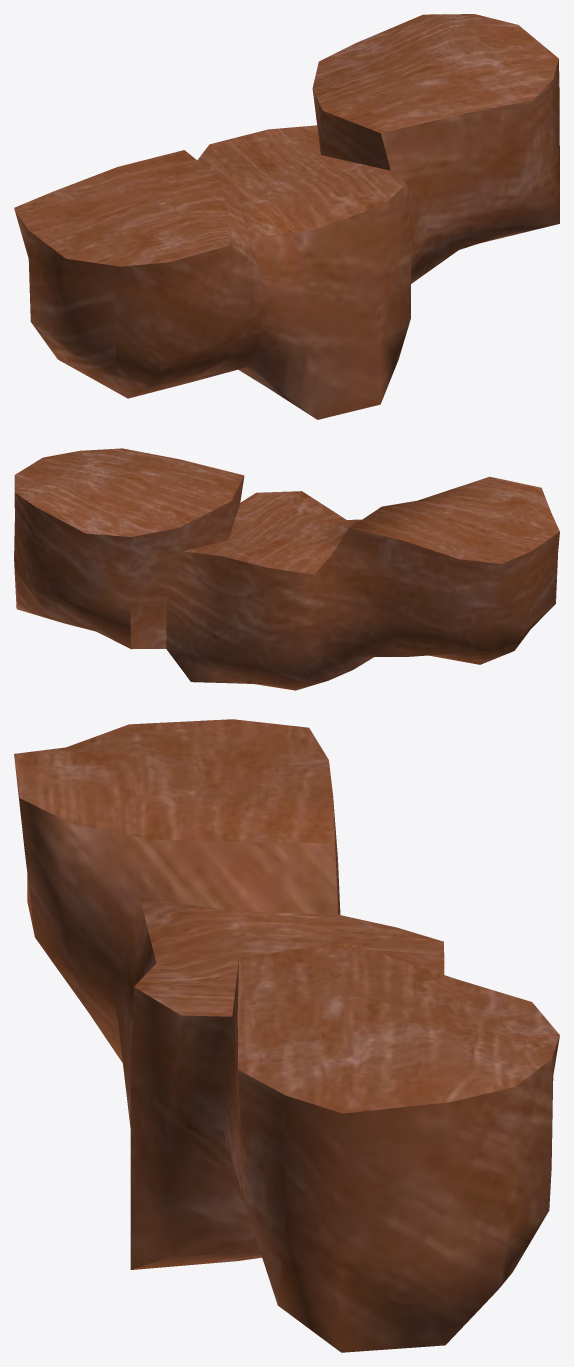
Rendered from Canyon_Rock_Platforms_5.glb.
3 views of the same model, one above another, from view 1: azimuth 30°, elevation 25°; view 2: azimuth 150°, elevation 25°; view 3: azimuth 270°, elevation 25° (orthographic). The views are drawn at different scales.
Visible parts, largest first — view 1: Canyon_Rock_Platforms_5_0; view 2: Canyon_Rock_Platforms_5_0; view 3: Canyon_Rock_Platforms_5_0.
Boxes of the visible parts, bbox=[...] form: Canyon_Rock_Platforms_5_0: bbox=[14, 14, 559, 419]; Canyon_Rock_Platforms_5_0: bbox=[14, 448, 559, 690]; Canyon_Rock_Platforms_5_0: bbox=[14, 719, 559, 1352].
Bounding box in the file's own units: 12.04 × 4.95 × 6.91.
1 material, 1 textured.
